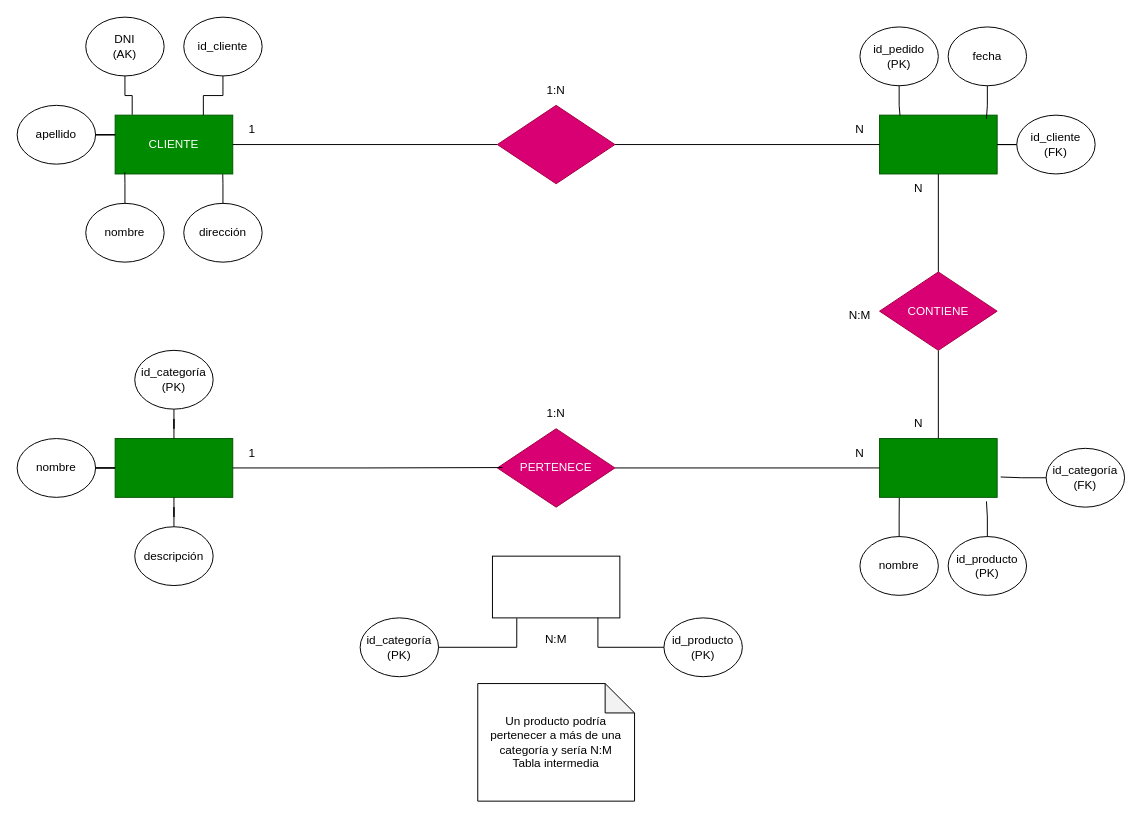
This 1142x818 diagram has some shape labels left out. Here are the shapes that lost their labels. From the top down, the box of each, then its label:
(496, 104, 615, 184): REALIZA
(879, 114, 997, 174): PEDIDO
(114, 438, 233, 497): CATEGORÍA
(879, 438, 997, 497): PRODUCTO
(491, 555, 620, 618): categoria_producto
